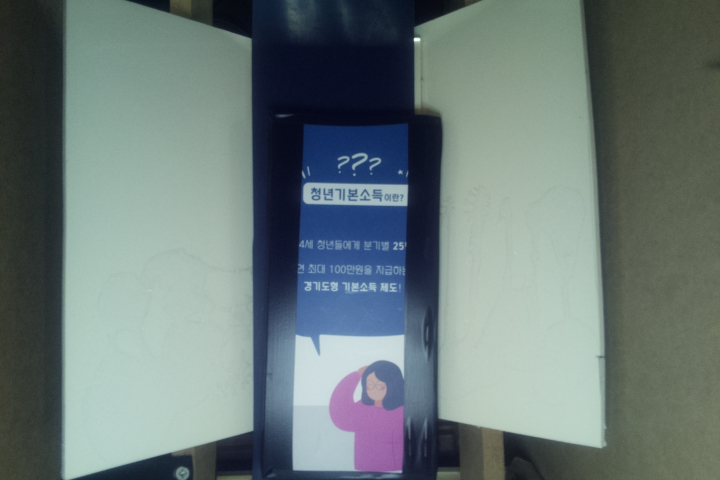book: (250, 108, 445, 480)
